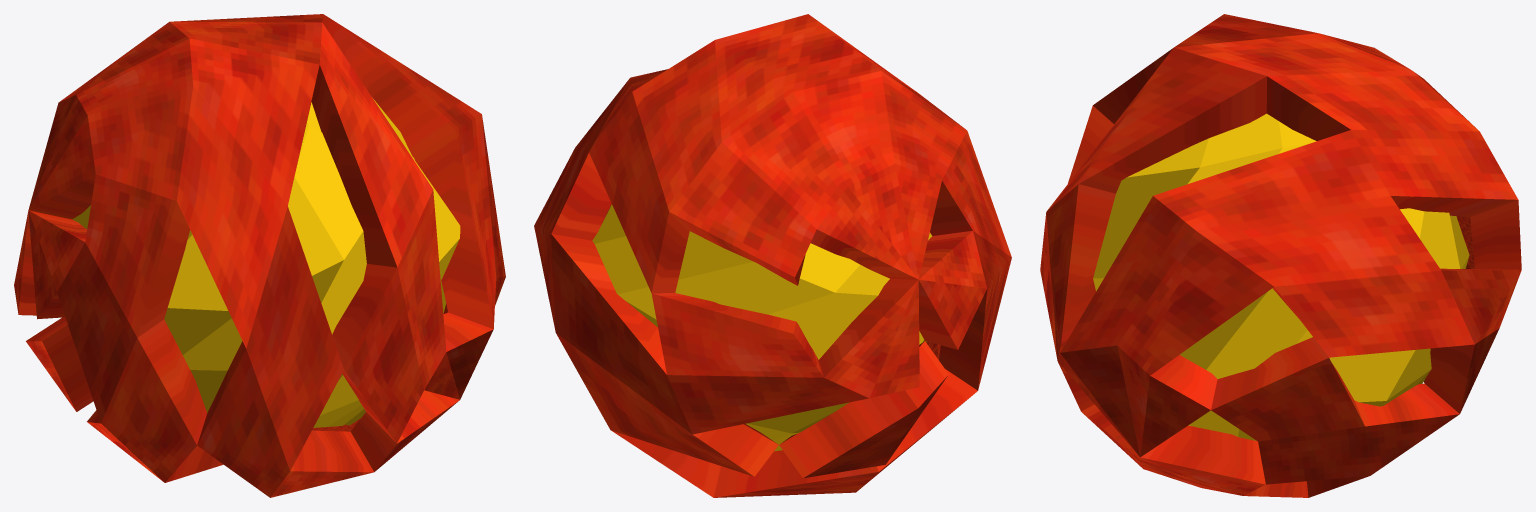
The model's file is Fireball_Ball_Only.fbx.
3 views of the same model, side by side, from view 1: azimuth 30°, elevation 25°; view 2: azimuth 150°, elevation 25°; view 3: azimuth 270°, elevation 25° (orthographic). The views are drawn at different scales.
Visible parts, largest first — view 1: Outside, Inside; view 2: Outside, Inside; view 3: Outside, Inside.
Part boxes in pixels (bbox=[...]): Outside: bbox=[14, 14, 505, 497]; Inside: bbox=[72, 99, 460, 427]; Outside: bbox=[534, 14, 1011, 497]; Inside: bbox=[592, 204, 931, 451]; Outside: bbox=[1040, 14, 1521, 497]; Inside: bbox=[1093, 113, 1469, 440].
Bounding box in the file's own units: 34.7 × 33.85 × 33.96.
Materials: 2 (1 with a texture image).
